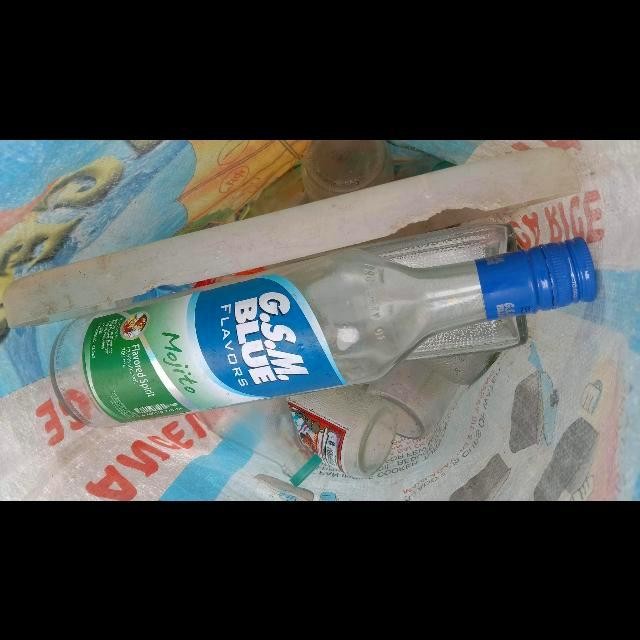glass_bottle: (48, 238, 599, 428), (196, 397, 322, 486), (287, 387, 397, 478), (302, 139, 394, 202)
